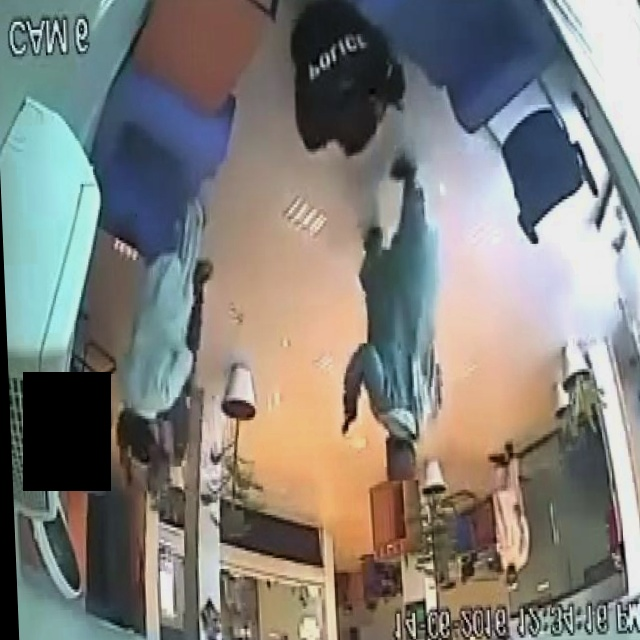gun: (335, 401, 357, 443), (116, 453, 134, 489)
